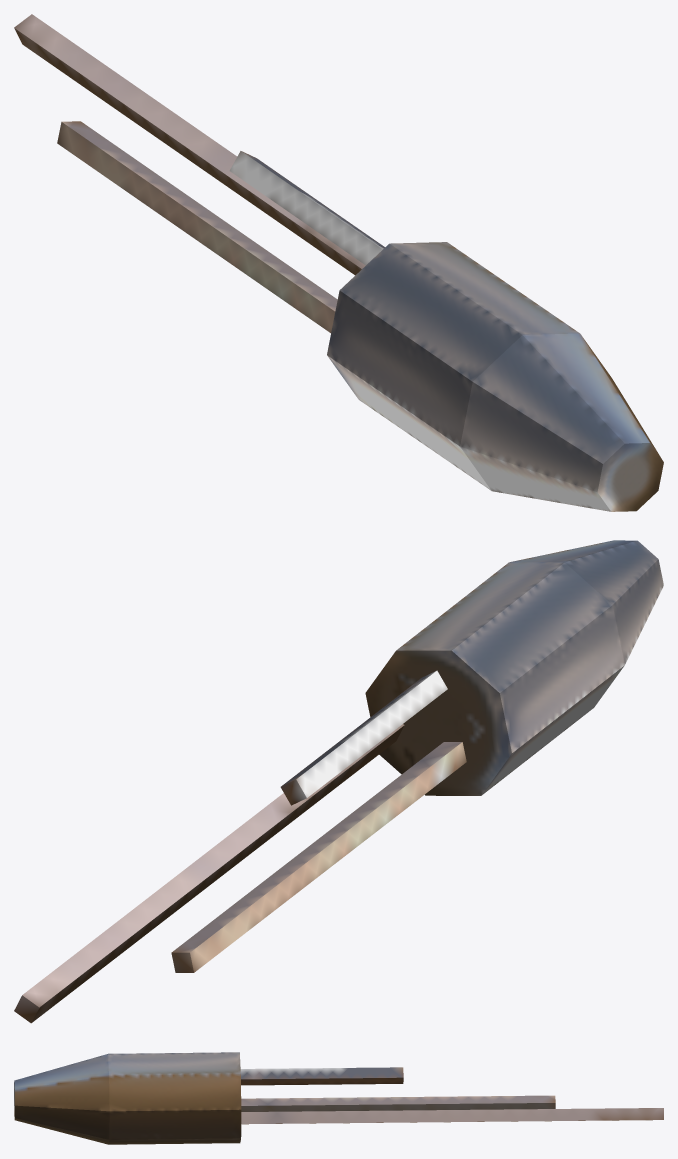
3 renders of one model, top to bottom at view 1: azimuth 30°, elevation 25°; view 2: azimuth 150°, elevation 25°; view 3: azimuth 270°, elevation 25°, orthographic. The views are drawn at different scales.
Parts seen in each view (by area): view 1: Bala_Cylinder.003, Estela_3_Cube.008, Estela_1_Cube.006, Estela_2_Cube.007; view 2: Bala_Cylinder.003, Estela_1_Cube.006, Estela_3_Cube.008, Estela_2_Cube.007; view 3: Bala_Cylinder.003, Estela_1_Cube.006, Estela_3_Cube.008, Estela_2_Cube.007.
Part boxes in pixels (x1,y1,x2,y2): Bala_Cylinder.003: [327, 242, 663, 511]; Estela_3_Cube.008: [57, 121, 337, 332]; Estela_1_Cube.006: [14, 14, 365, 275]; Estela_2_Cube.007: [229, 151, 384, 265]; Bala_Cylinder.003: [365, 540, 663, 795]; Estela_1_Cube.006: [14, 724, 404, 1023]; Estela_3_Cube.008: [171, 742, 466, 972]; Estela_2_Cube.007: [280, 670, 447, 805]; Bala_Cylinder.003: [14, 1052, 241, 1144]; Estela_1_Cube.006: [241, 1108, 663, 1124]; Estela_3_Cube.008: [241, 1095, 555, 1111]; Estela_2_Cube.007: [240, 1067, 403, 1085].
Size of what is drawn, in the model's own units: 0.287 by 0.2762 by 1.94.
